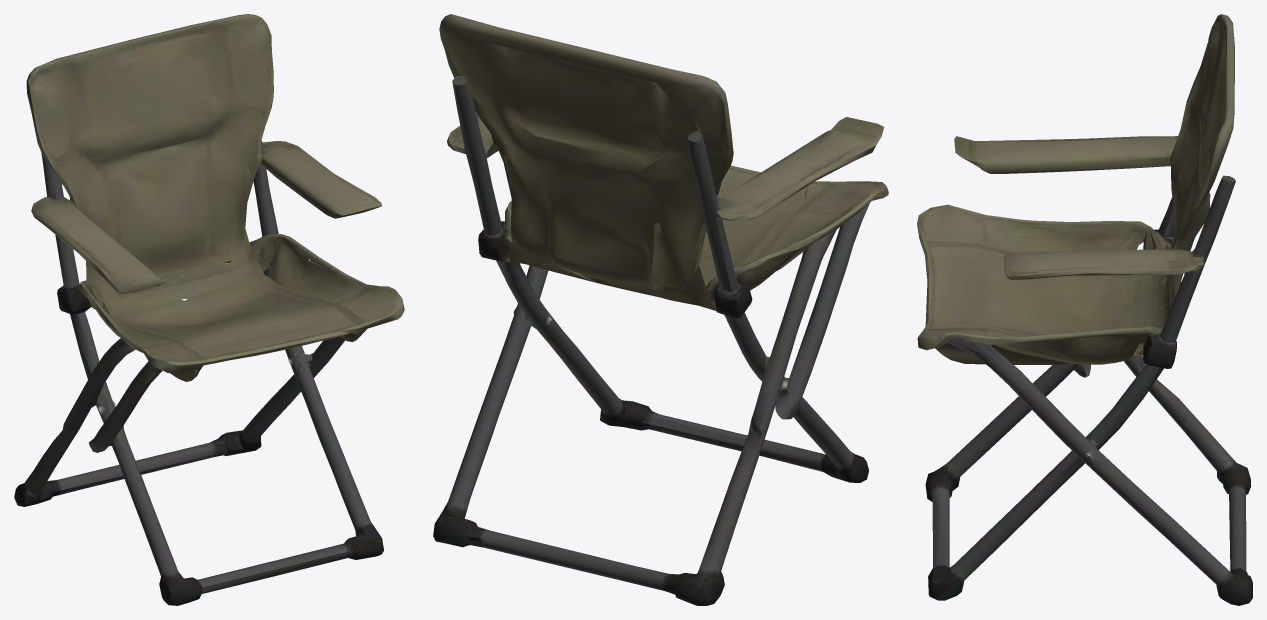
The model's file is campchair.glb.
3 renders of one model, left to right at view 1: azimuth 30°, elevation 25°; view 2: azimuth 150°, elevation 25°; view 3: azimuth 270°, elevation 25°, orthographic. The views are drawn at different scales.
Visible parts, largest first — view 1: campchair; view 2: campchair; view 3: campchair.
Part boxes in pixels (x1,y1,x2,y2): campchair: (14, 14, 404, 605); campchair: (433, 14, 888, 605); campchair: (917, 14, 1252, 605).
Size of the model in its own units: 0.5573 by 0.85 by 0.5419.
1 material, 1 textured.
